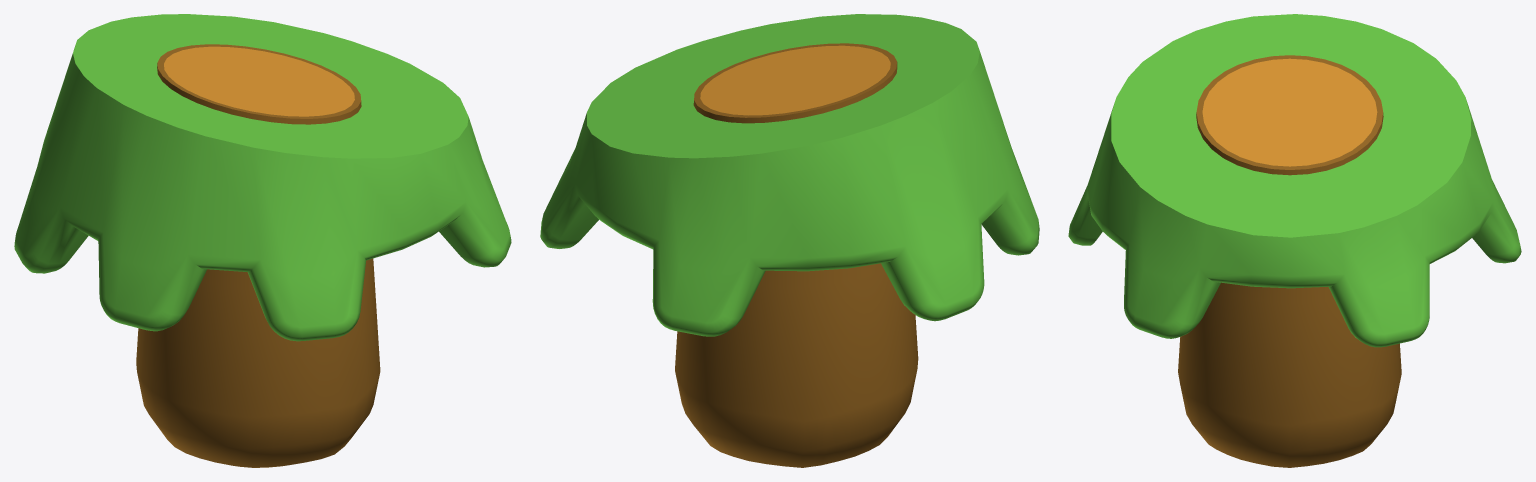
Rendered from tree 40%.fbx.
The picture shows the model from 3 angles, left to right: view 1: azimuth 30°, elevation 25°; view 2: azimuth 150°, elevation 25°; view 3: azimuth 270°, elevation 25°; orthographic projection. The views are drawn at different scales.
Visible parts, largest first — view 1: Cylinder.115; view 2: Cylinder.115; view 3: Cylinder.115.
Part boxes in pixels (x1,y1,x2,y2): Cylinder.115: (14,14,511,467); Cylinder.115: (540,14,1039,467); Cylinder.115: (1068,14,1521,467).
Bounding box in the file's own units: 3694 × 3313 × 3838.
